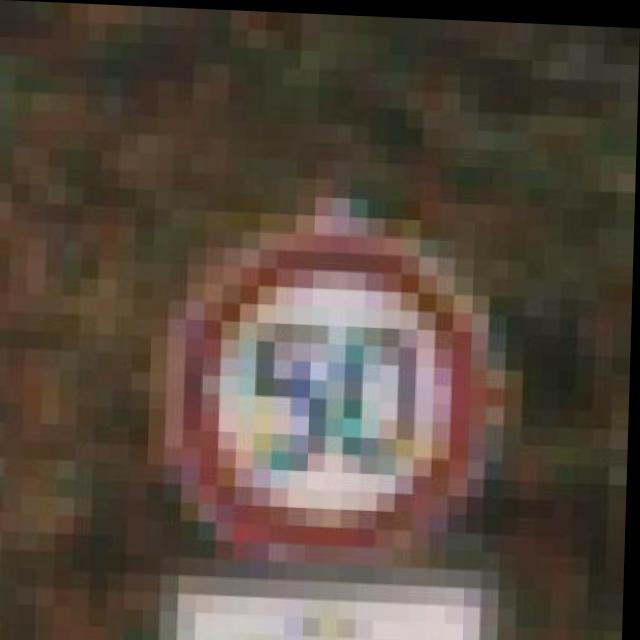Speed limit 50: (157, 185, 505, 571)
